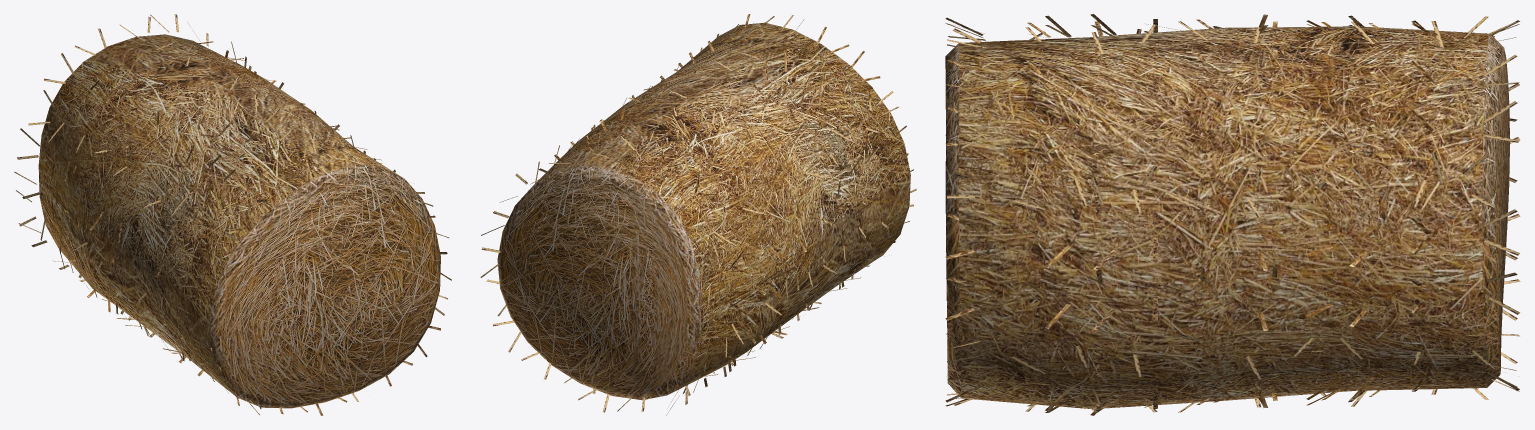
The model's file is haystack-game.glb.
3 renders of one model, left to right at view 1: azimuth 30°, elevation 25°; view 2: azimuth 150°, elevation 25°; view 3: azimuth 270°, elevation 25°, orthographic. The views are drawn at different scales.
Parts seen in each view (by area): view 1: Cylinder.005_M_Hay_Atlas_01_TwoSided_0, Cube.187_M_Hay_Atlas_01_0; view 2: Cylinder.005_M_Hay_Atlas_01_TwoSided_0, Cube.187_M_Hay_Atlas_01_0; view 3: Cylinder.005_M_Hay_Atlas_01_TwoSided_0, Cube.187_M_Hay_Atlas_01_0.
Boxes of the visible parts, box(x1,y1,x2,y2) form: Cylinder.005_M_Hay_Atlas_01_TwoSided_0: box(38, 34, 440, 408); Cube.187_M_Hay_Atlas_01_0: box(14, 14, 451, 415); Cylinder.005_M_Hay_Atlas_01_TwoSided_0: box(497, 22, 910, 400); Cube.187_M_Hay_Atlas_01_0: box(480, 14, 916, 415); Cylinder.005_M_Hay_Atlas_01_TwoSided_0: box(945, 26, 1509, 409); Cube.187_M_Hay_Atlas_01_0: box(945, 14, 1520, 415).
Bounding box in the file's own units: 2.21 × 2.14 × 3.12.
Materials: 2 (2 with a texture image).
